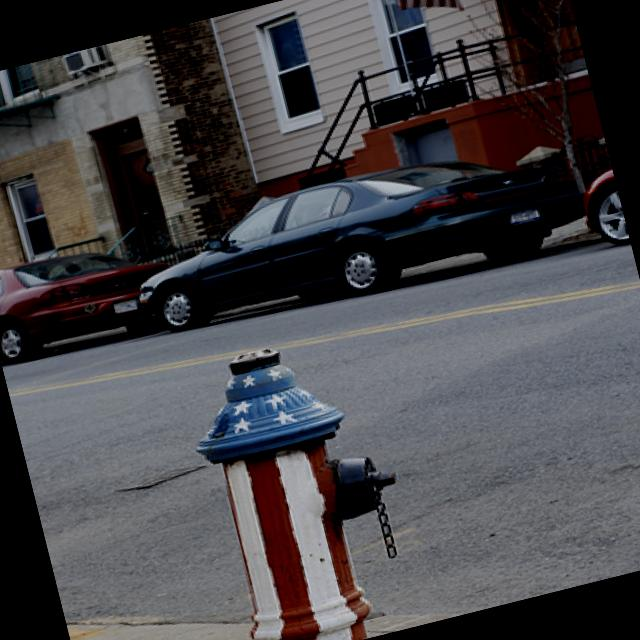Vehicle: (121, 118, 604, 352), (0, 228, 183, 369), (566, 160, 631, 255)
